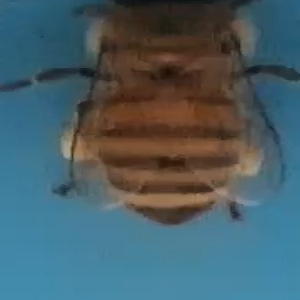bee: (7, 1, 300, 227)
